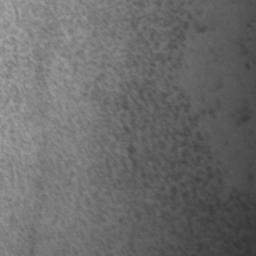Pitted surface: (26, 0, 256, 256), (2, 37, 68, 125), (0, 120, 46, 181), (34, 177, 72, 218), (237, 16, 256, 70), (95, 235, 135, 256), (21, 224, 36, 255), (232, 102, 252, 125), (248, 164, 254, 181)
